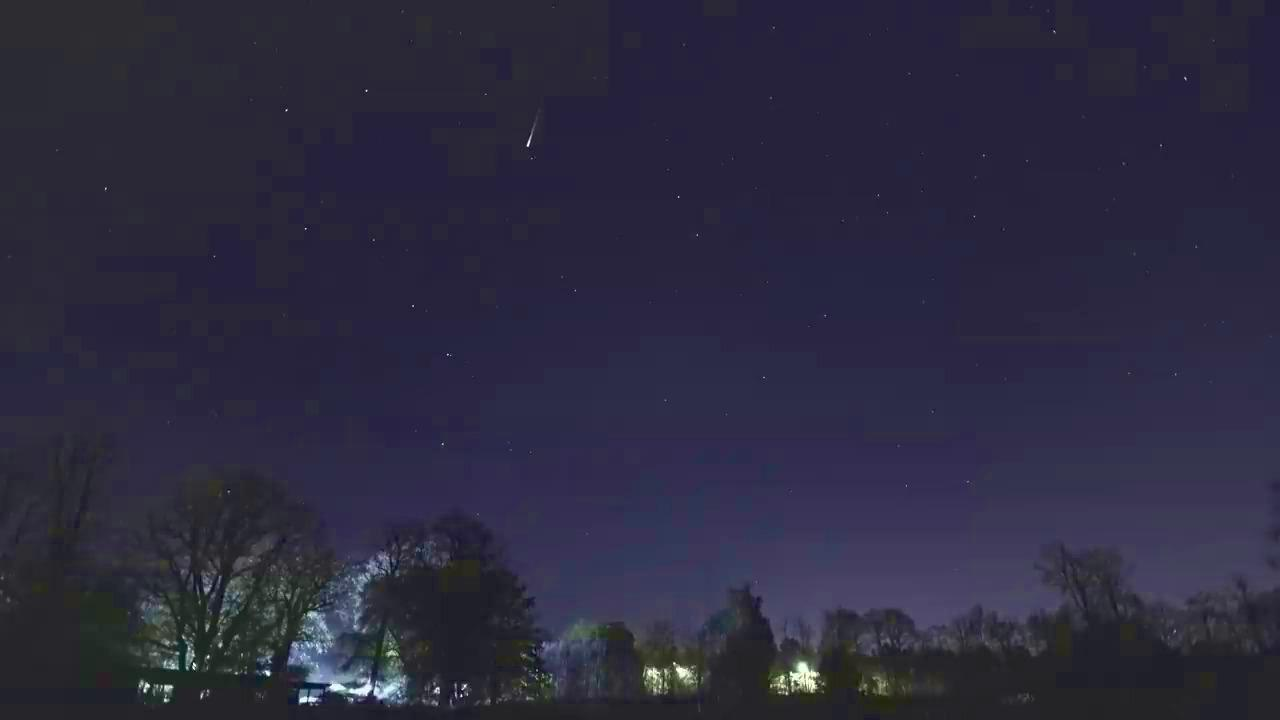meteorite: (480, 109, 592, 153)
